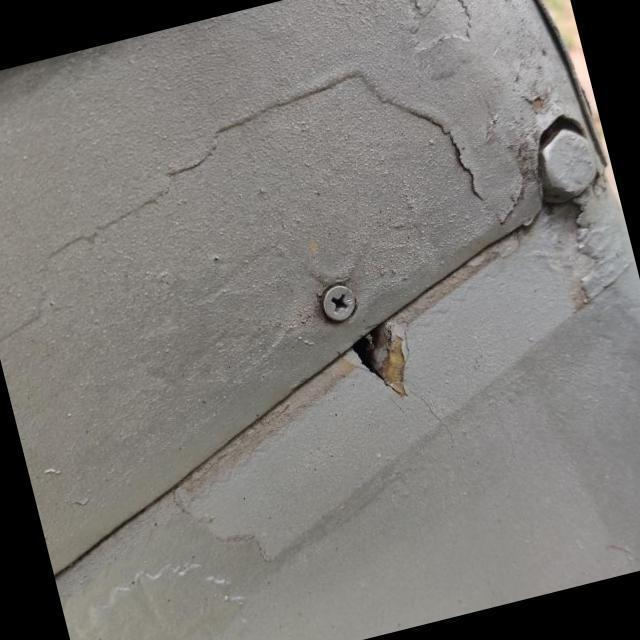Rupture: (317, 298, 456, 434)
